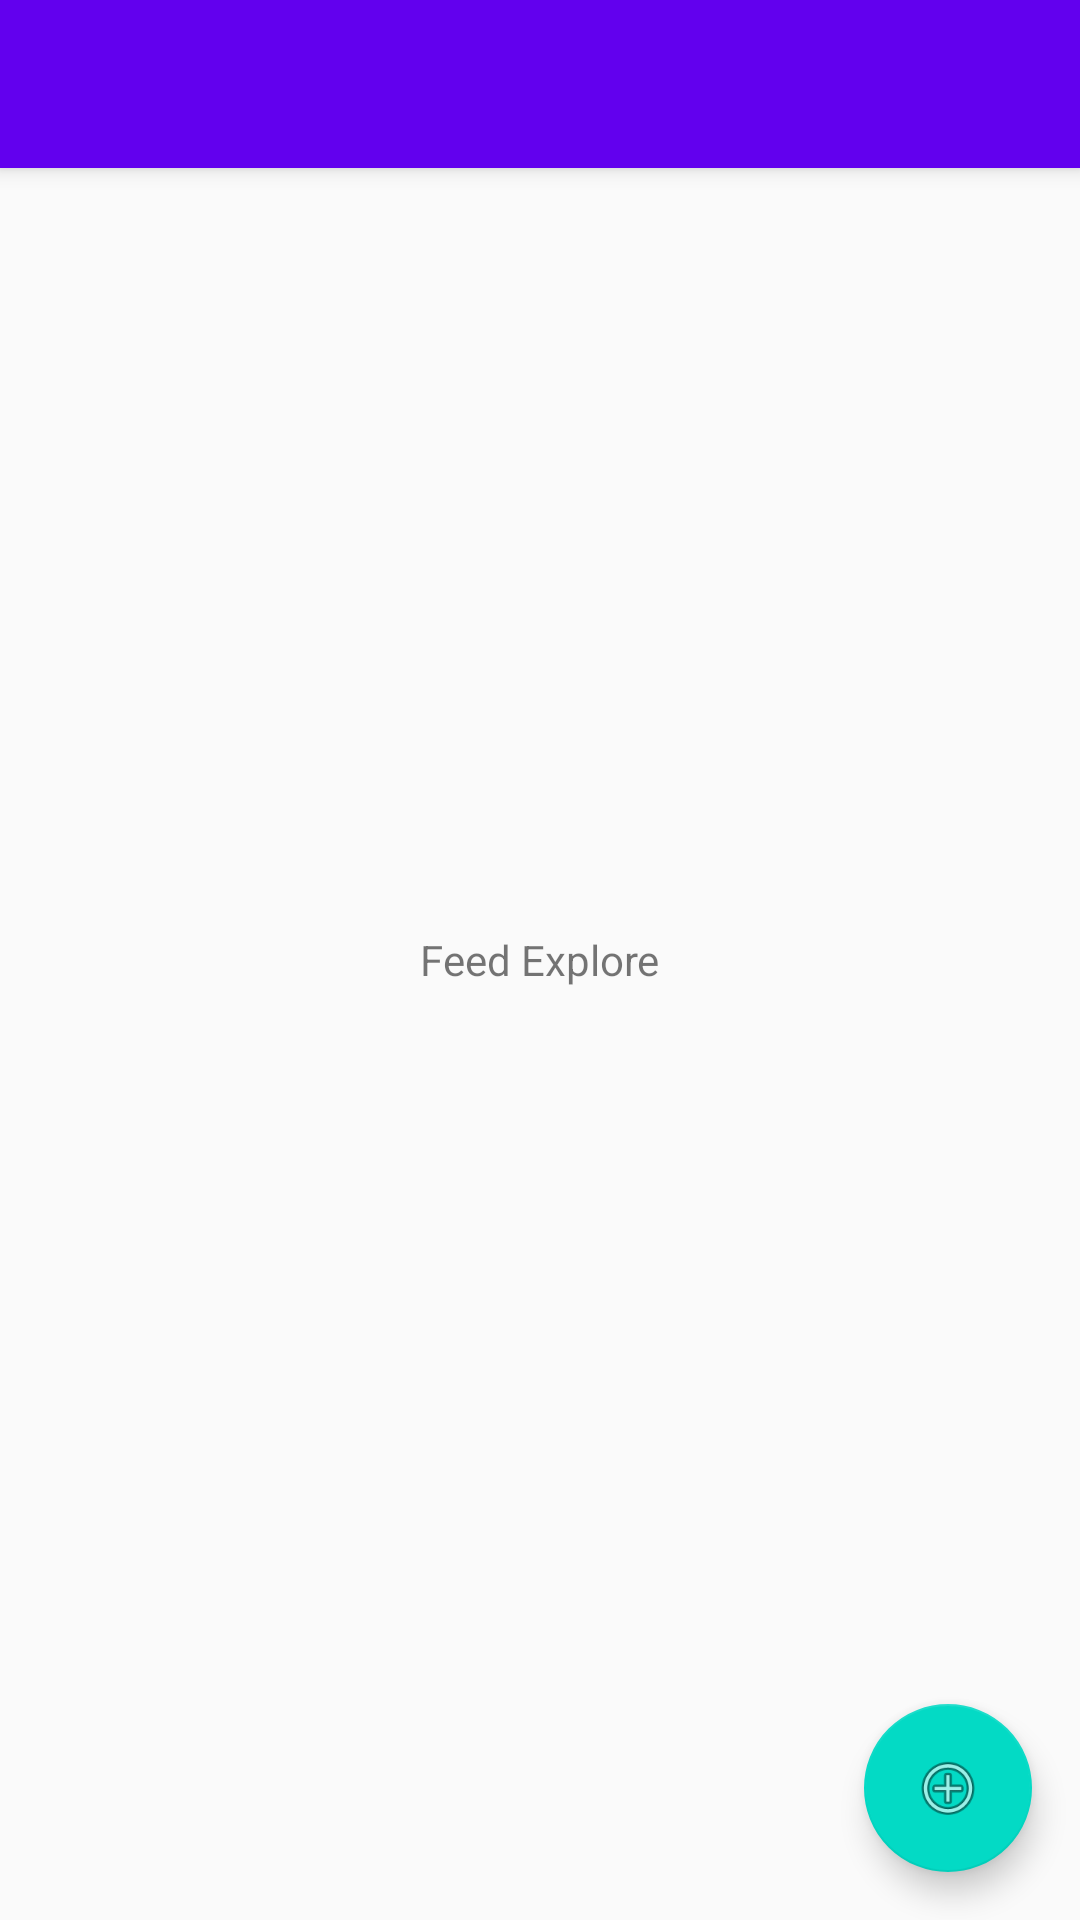

Named icons in this screenshot (1080 × 1920) and their centers, (x,y):
Add New Notes: (948,1788)
